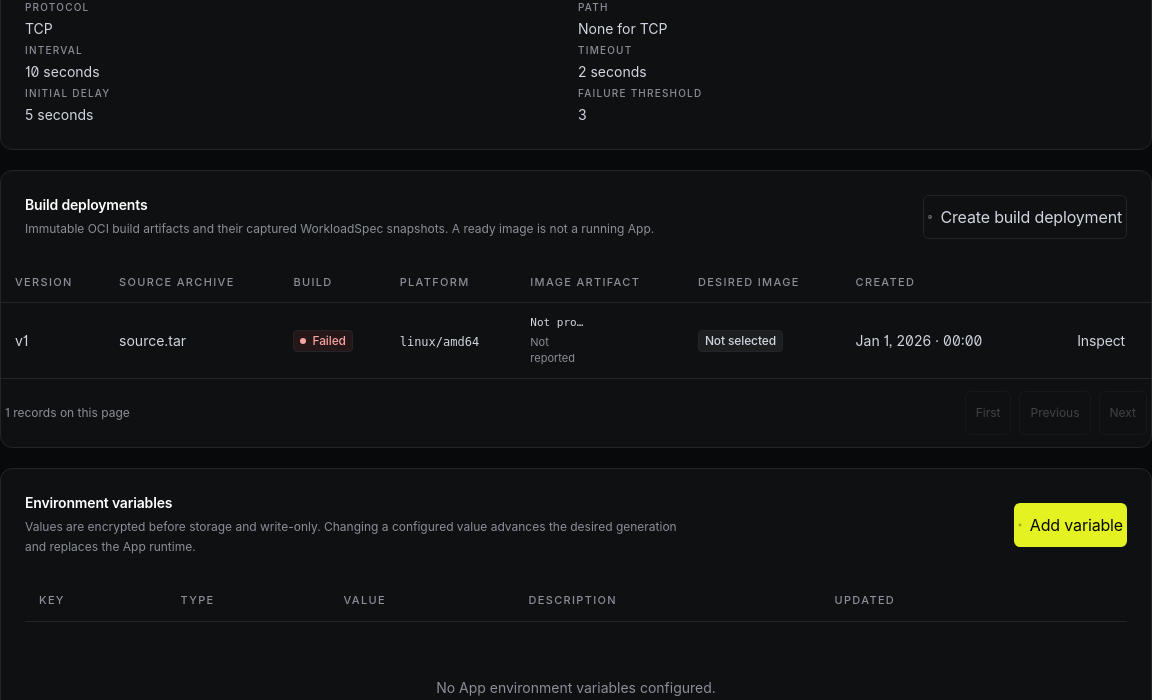
Test: AppDetailView › shows build failure details and never offers failed output for selection
(page scrolled)
Expected: the text "Failed" is shown, x1=294 y1=330 x2=353 y2=352
Expected: the text "Not reported" is shown, x1=530 y1=335 x2=575 y2=365
Step 1. Click the button "Inspect" → (1101, 341), box x1=1065 y1=319 x2=1137 y2=363
(page scrolled)
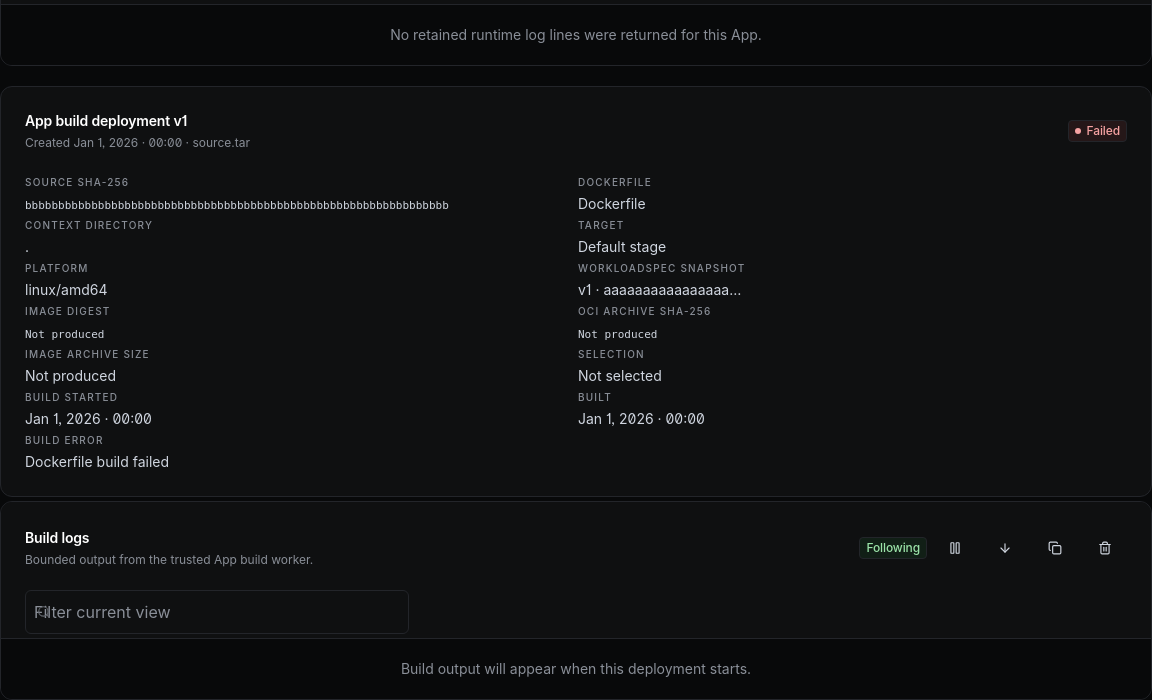
Expected: the text "Dockerfile build failed" is shown, x1=25 y1=453 x2=169 y2=470
